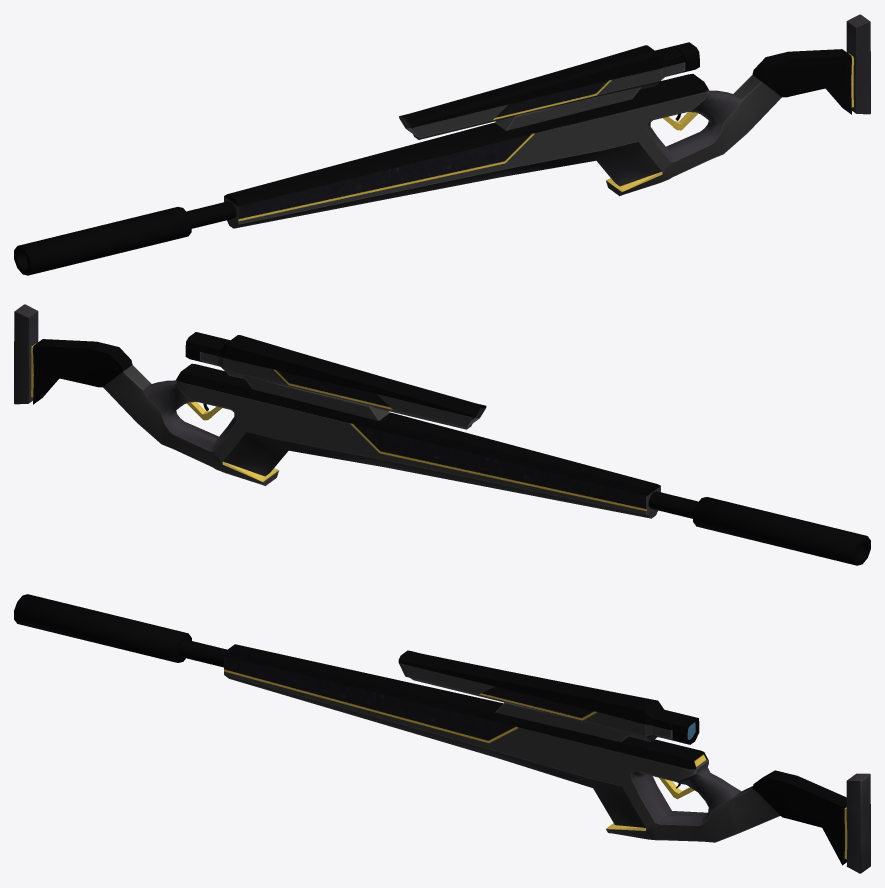
The model's file is SniperRifle.fbx.
3 renders of one model, top to bottom at view 1: azimuth 30°, elevation 25°; view 2: azimuth 150°, elevation 25°; view 3: azimuth 330°, elevation 25°, orthographic.
Parts seen in each view (by area): view 1: Cube, Cube.001, Cylinder, Cube.002, Cube.005; view 2: Cube, Cube.001, Cylinder, Cube.002, Cube.005; view 3: Cube, Cube.001, Cylinder, Cube.002, Cube.005.
Part boxes in pixels (x1,y1,x2,y2): Cube: (224,14,870,228); Cube.001: (399,42,699,139); Cylinder: (14,201,236,275); Cube.002: (495,87,641,130); Cube.005: (238,133,534,220); Cube: (14,304,660,518); Cube.001: (185,332,486,429); Cylinder: (648,491,870,565); Cube.002: (242,376,389,420); Cube.005: (350,423,646,510); Cube: (224,644,870,873); Cube.001: (398,650,699,744); Cylinder: (14,594,226,667); Cube.002: (495,702,630,742); Cube.005: (224,669,706,766).
Size of the model in its own units: 256 by 39.1 by 8.95.
